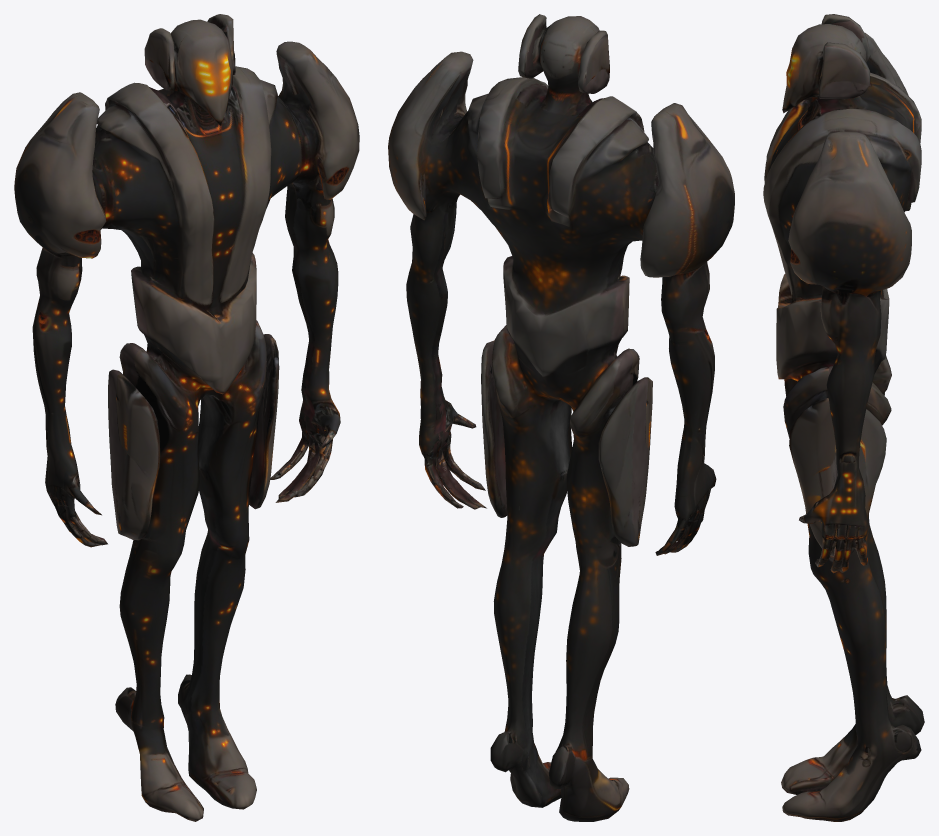
Rendered from Celestial_Arishem_0521145806_texture.glb.
The picture shows the model from 3 angles, left to right: view 1: azimuth 30°, elevation 25°; view 2: azimuth 150°, elevation 25°; view 3: azimuth 270°, elevation 25°; orthographic projection.
Bounding box in the file's own units: 0.8762 × 2 × 0.3764.
1 material, 1 textured.
